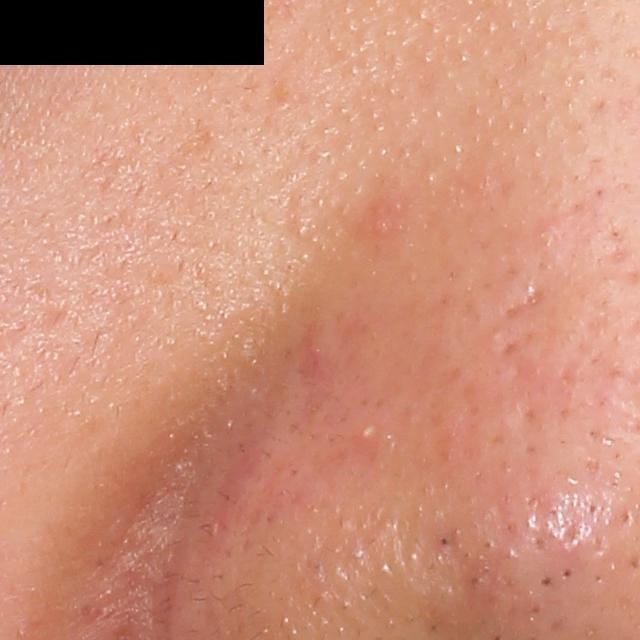atrophic_scar: (500, 278, 545, 322)
comedo: (536, 574, 554, 591), (559, 563, 575, 582)
pustule: (355, 420, 378, 443)
